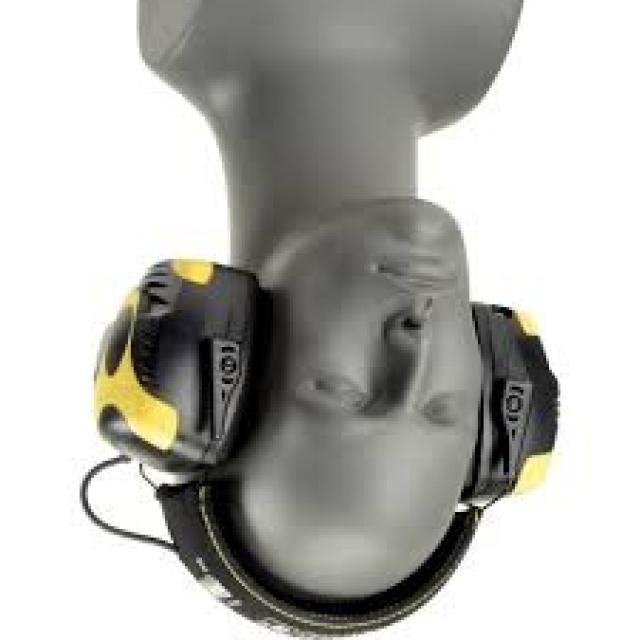Ear-Protection: (88, 259, 262, 478), (458, 304, 560, 518)
